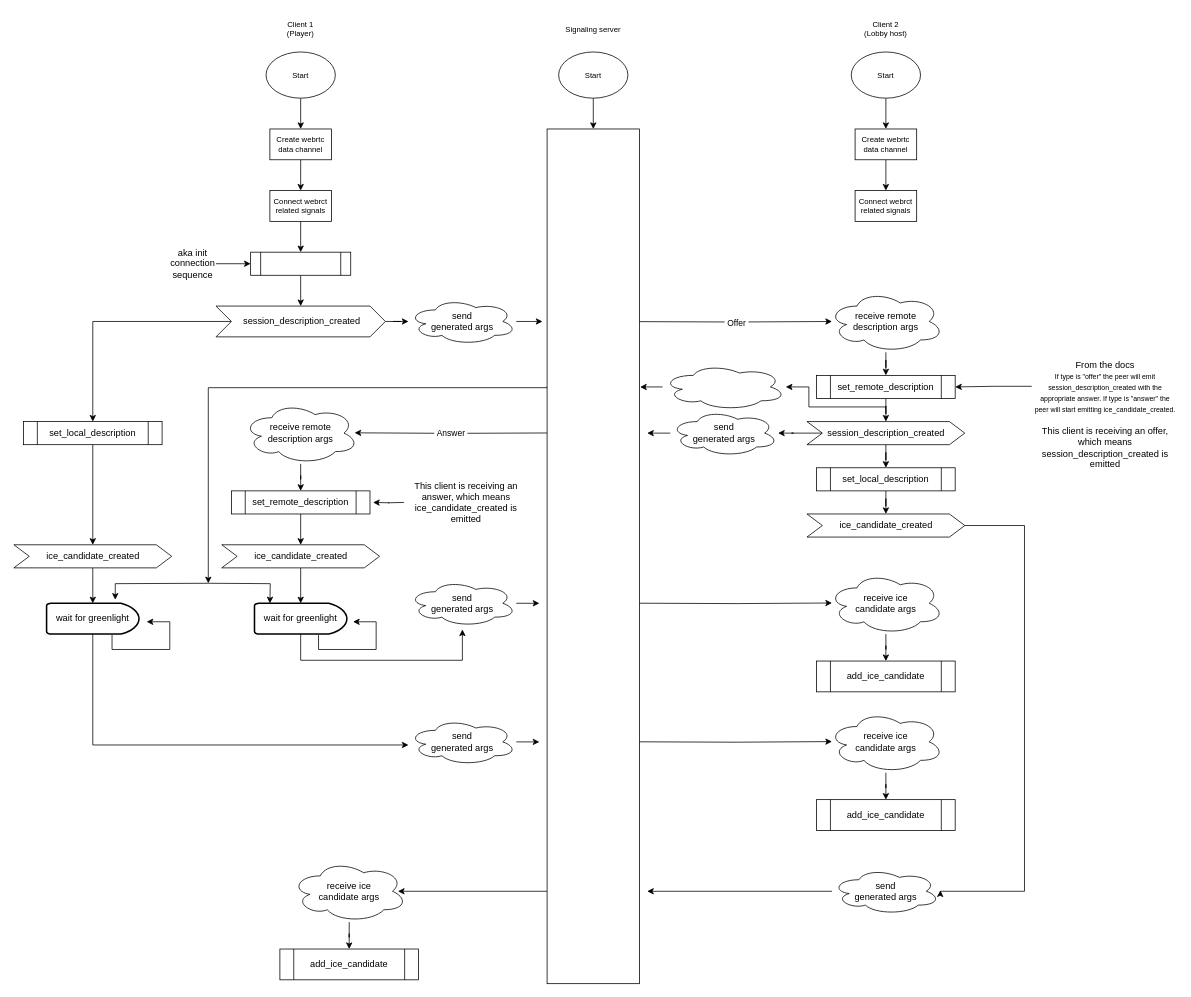
Image size: 1191x997. Some labels were removed from this diagram. The shapes that lost their labels are listed below. From the top down, each one's centre as x and y in pixels, then its label:
At [300,263]: "create_offer()".
At [724,386]: "send ice transmission greenlight signal".
At [592,556]: "Forward traffic between clients".
